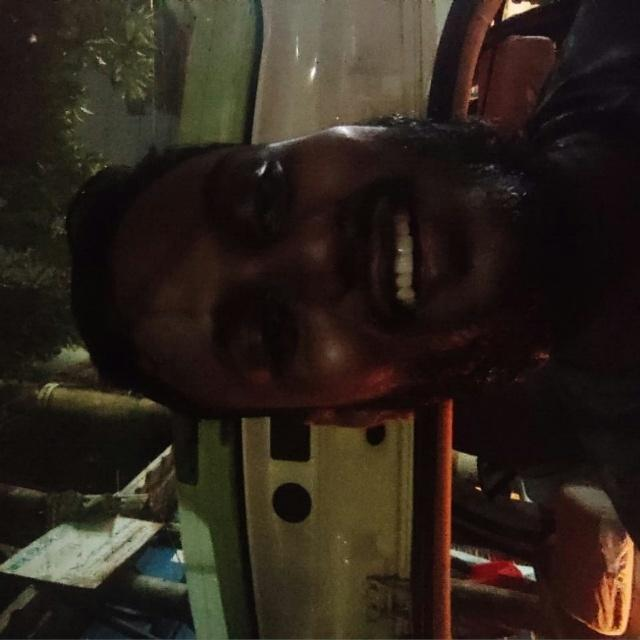Happy: (86, 106, 541, 448)
